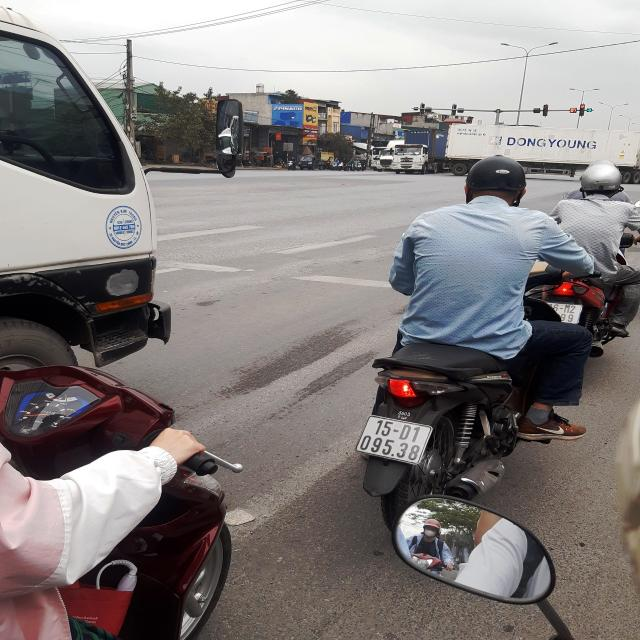license_plate: (354, 416, 434, 466)
